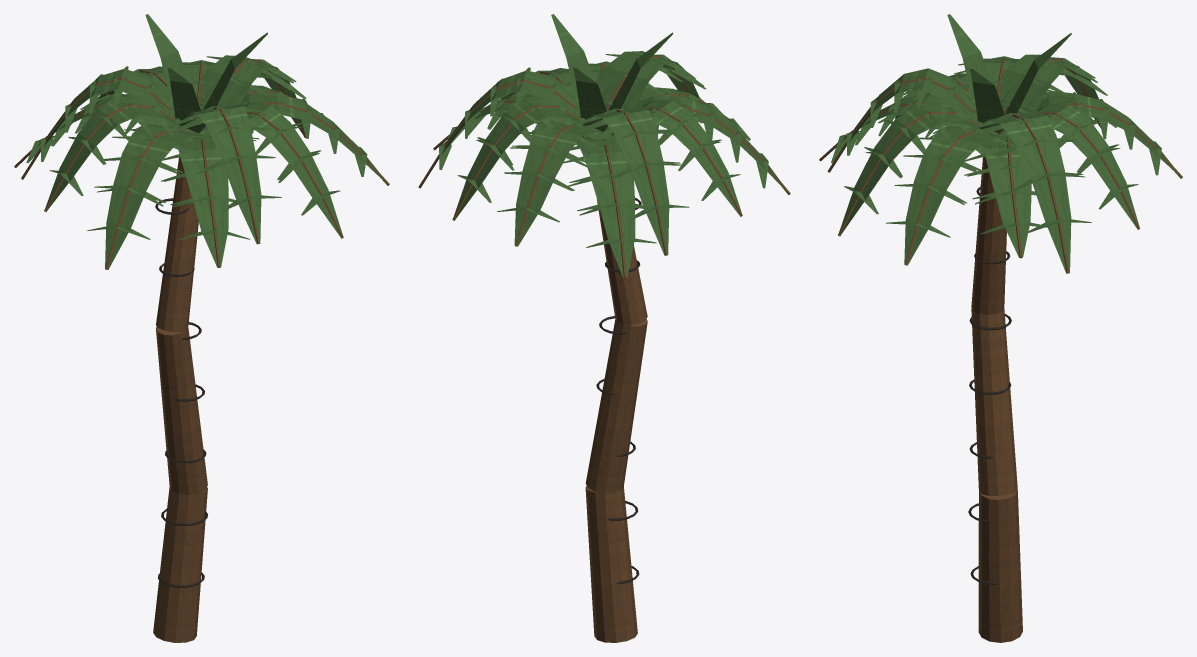
The model's file is en-007_palm_tree_variant_set__young.obj.
3 renders of one model, left to right at view 1: azimuth 30°, elevation 25°; view 2: azimuth 150°, elevation 25°; view 3: azimuth 270°, elevation 25°, orthographic.
Parts seen in each view (by area): view 1: en-007_palm_tree_variant_set__young; view 2: en-007_palm_tree_variant_set__young; view 3: en-007_palm_tree_variant_set__young.
Part boxes in pixels (bbox=[...]): en-007_palm_tree_variant_set__young: bbox=[14, 14, 389, 642]; en-007_palm_tree_variant_set__young: bbox=[418, 14, 790, 642]; en-007_palm_tree_variant_set__young: bbox=[819, 14, 1182, 642].
Bounding box in the file's own units: 1.78 × 3.35 × 1.83.
Materials: 3 (3 with a texture image).
